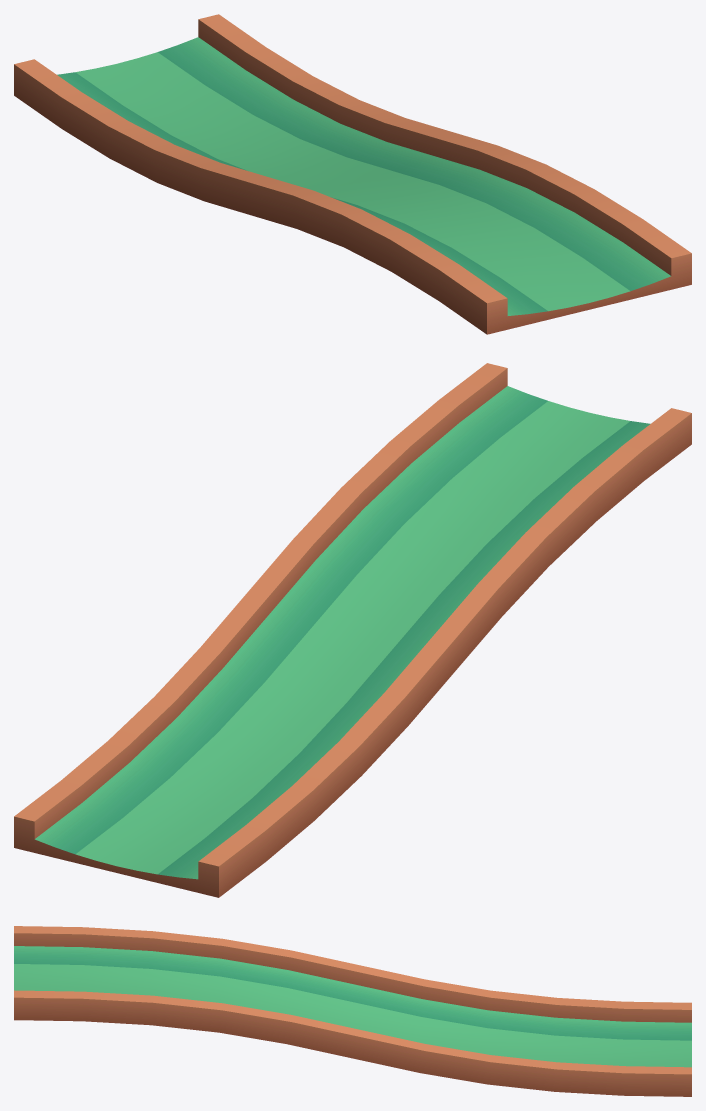
File: spline-concave-straight-hill-complete-half.glb
3 renders of one model, top to bottom at view 1: azimuth 30°, elevation 25°; view 2: azimuth 150°, elevation 25°; view 3: azimuth 270°, elevation 25°, orthographic. The views are drawn at different scales.
Visible parts, largest first — view 1: spline-concave-straight-hill-complete-half; view 2: spline-concave-straight-hill-complete-half; view 3: spline-concave-straight-hill-complete-half.
Part boxes in pixels (<box>): spline-concave-straight-hill-complete-half: <box>14,14,691,334</box>; spline-concave-straight-hill-complete-half: <box>14,363,691,897</box>; spline-concave-straight-hill-complete-half: <box>14,926,691,1096</box>.
Size of the model in its own units: 1 by 0.6465 by 4.
1 material, 1 textured.
